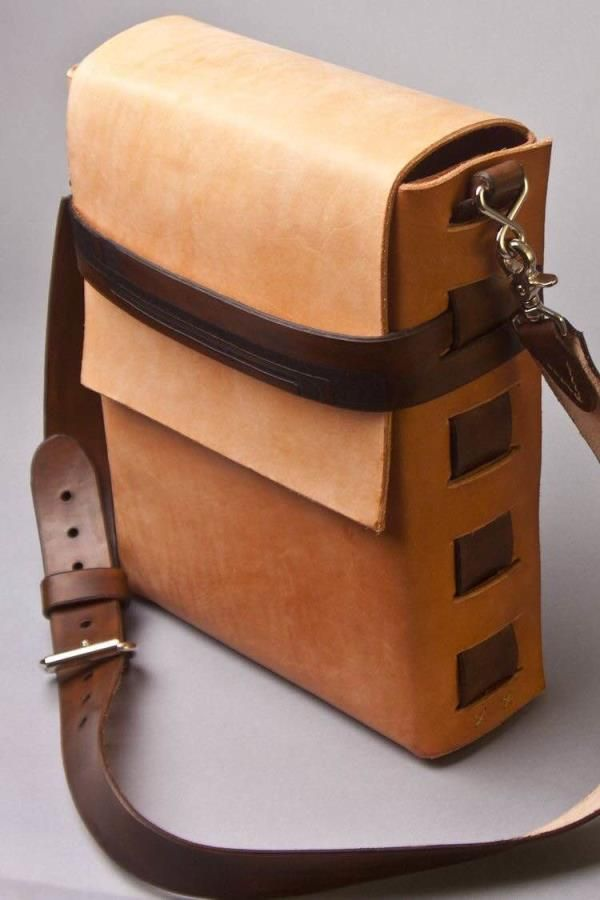cuero: (29, 14, 600, 900)
